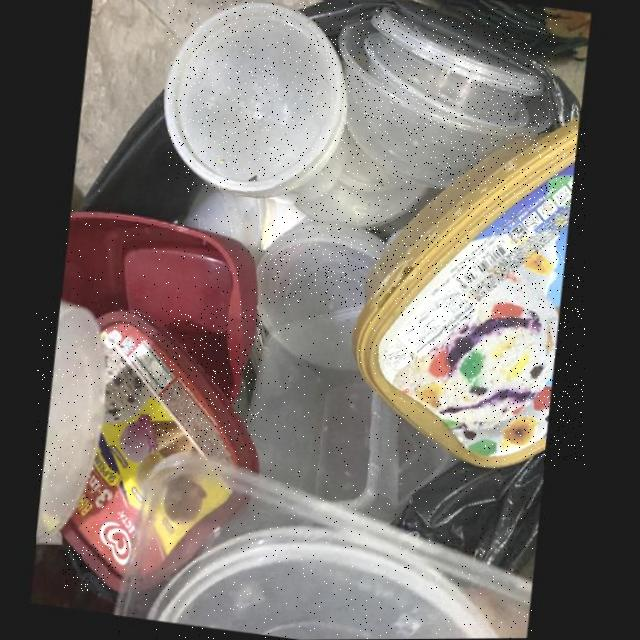plastic: (356, 111, 585, 466), (114, 450, 533, 640), (63, 309, 262, 591), (343, 9, 557, 188), (65, 209, 261, 403), (167, 1, 354, 192), (248, 305, 401, 522), (259, 218, 389, 373), (37, 297, 111, 545), (276, 126, 434, 228), (396, 415, 465, 502)
